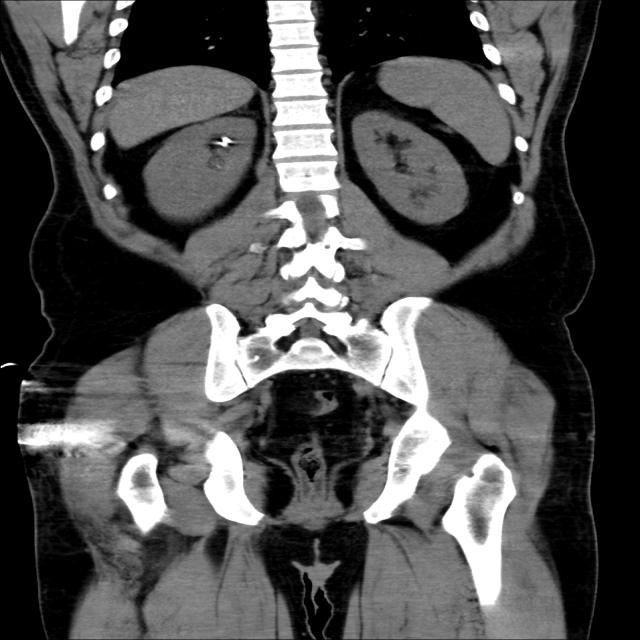kidneystone: (211, 136, 236, 147)
